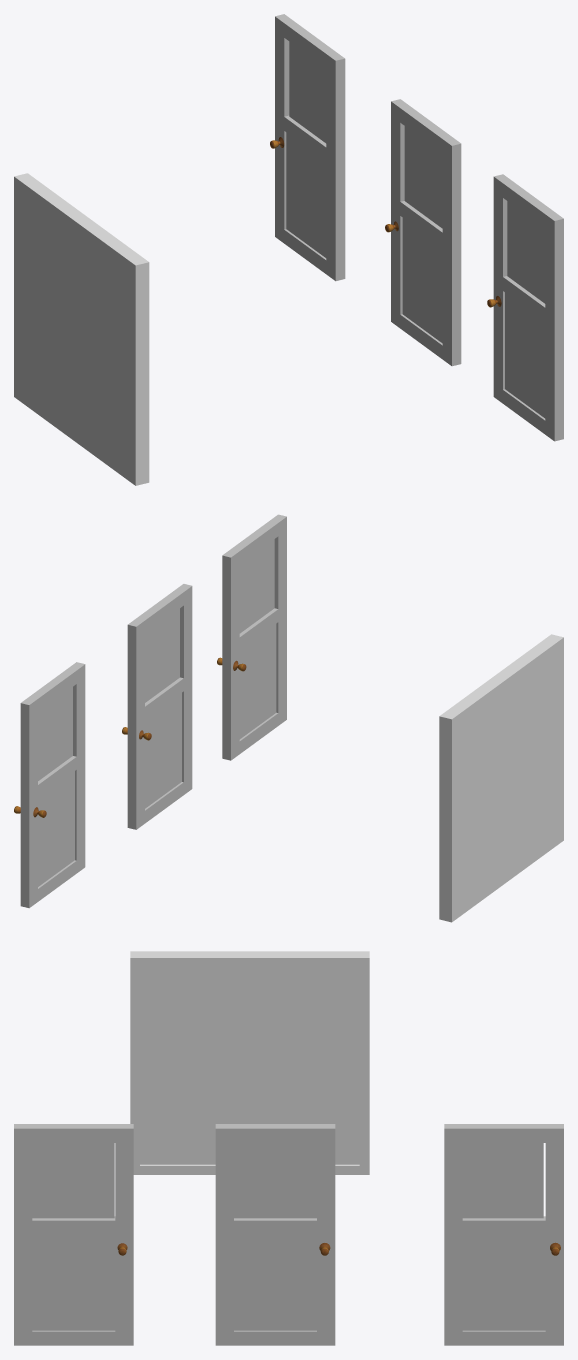
The model's file is OfficeDoors.FBX.
3 renders of one model, top to bottom at view 1: azimuth 30°, elevation 25°; view 2: azimuth 150°, elevation 25°; view 3: azimuth 270°, elevation 25°, orthographic. The views are drawn at different scales.
Parts seen in each view (by area): view 1: End level door, JanitorsDoor001, GuardsDoor001, WardensDoor, window1, window002, window003; view 2: End level door, GuardsDoor001, JanitorsDoor001, WardensDoor, window1, window002, window003; view 3: End level door, GuardsDoor001, WardensDoor, JanitorsDoor001, window1, window002, window003.
Boxes of the visible parts, x1,y1,x2,y2 form: End level door: [14, 173, 149, 485]; JanitorsDoor001: [275, 14, 345, 281]; GuardsDoor001: [391, 99, 461, 366]; WardensDoor: [493, 174, 563, 441]; window1: [507, 201, 545, 303]; window002: [404, 126, 442, 228]; window003: [289, 41, 326, 143]; End level door: [439, 634, 563, 922]; GuardsDoor001: [127, 584, 192, 829]; JanitorsDoor001: [20, 662, 85, 908]; WardensDoor: [222, 514, 286, 760]; window1: [239, 539, 274, 633]; window002: [145, 608, 179, 702]; window003: [38, 687, 72, 780]; End level door: [130, 951, 369, 1174]; GuardsDoor001: [215, 1124, 335, 1345]; WardensDoor: [14, 1124, 133, 1345]; JanitorsDoor001: [444, 1124, 563, 1345]; window1: [32, 1143, 114, 1218]; window002: [234, 1143, 316, 1218]; window003: [462, 1143, 543, 1218].
Bounding box in the file's own units: 3605 × 2000 × 4598.
